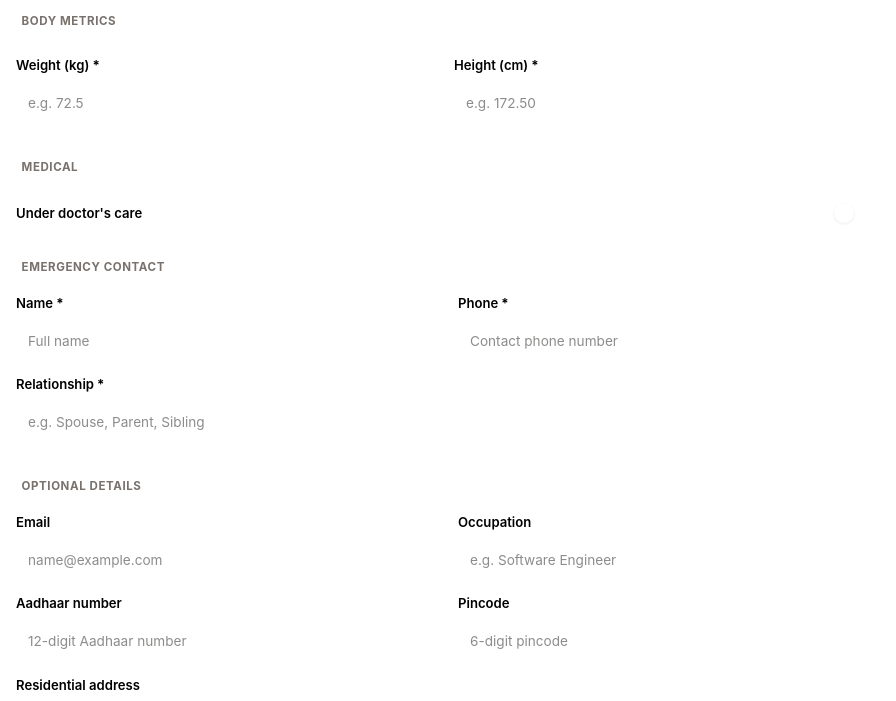
Test: AddMemberPage — the form › masks emergency phone as it is typed
(page scrolled)
In the field with id "emergency_contact_phone": (667, 341) [458, 319, 876, 363], type "91x23"
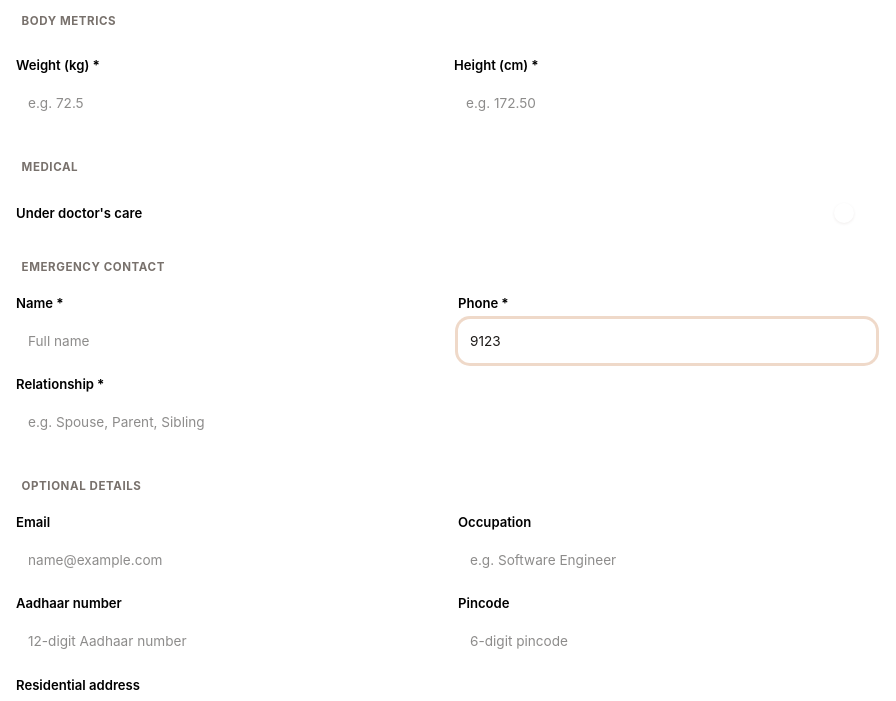
Expected: the field with id "emergency_contact_phone" holds "9123", [458, 319, 876, 363]
